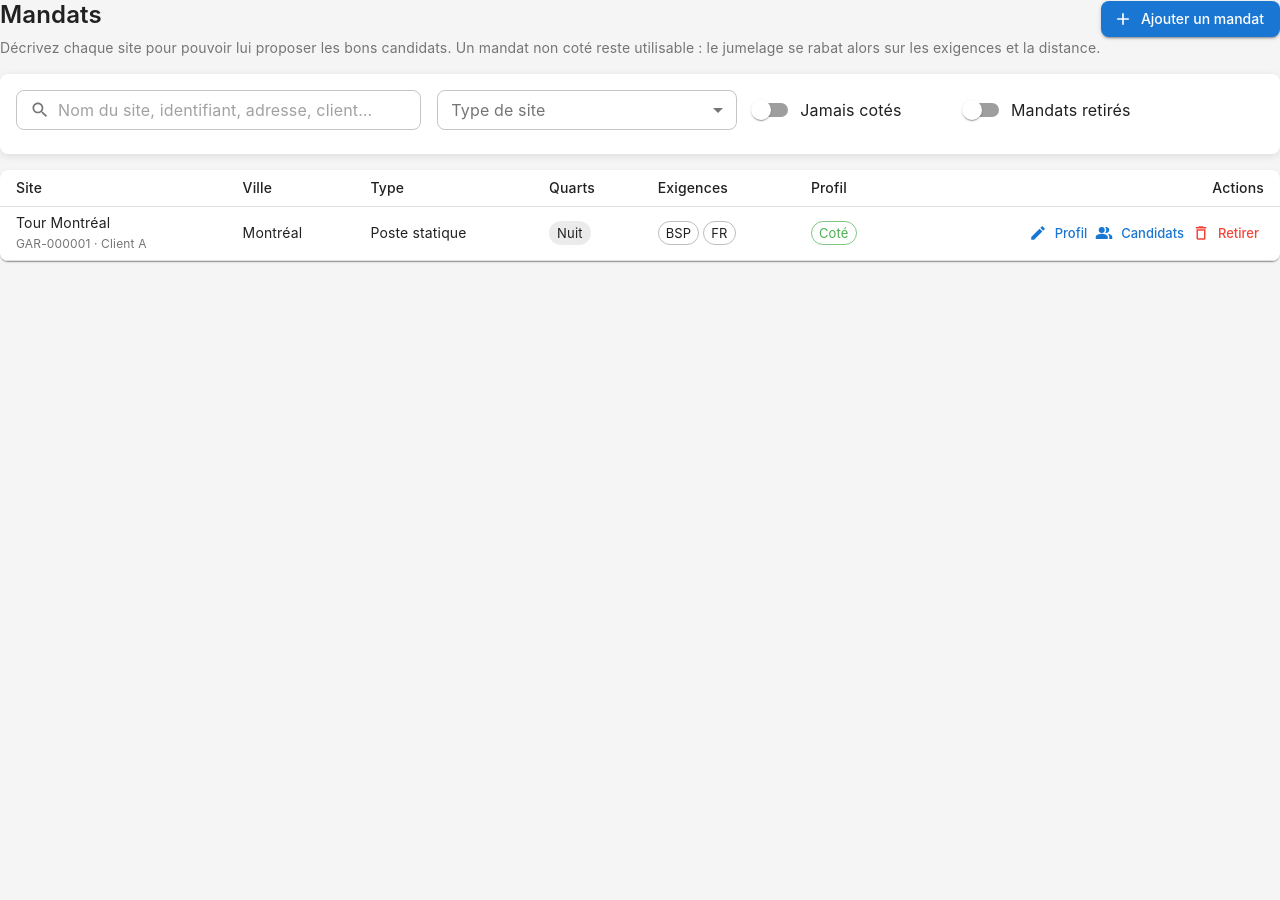
MandatesPage › ajout et retrait › ajoute un mandat puis ouvre directement son profil
The image size is (1280, 900).
Check: the text "Tour Montréal" is shown, box [16,214,110,231]
Step 1. Click the button "Ajouter un mandat" → (1190, 19), box [1101,1,1279,37]
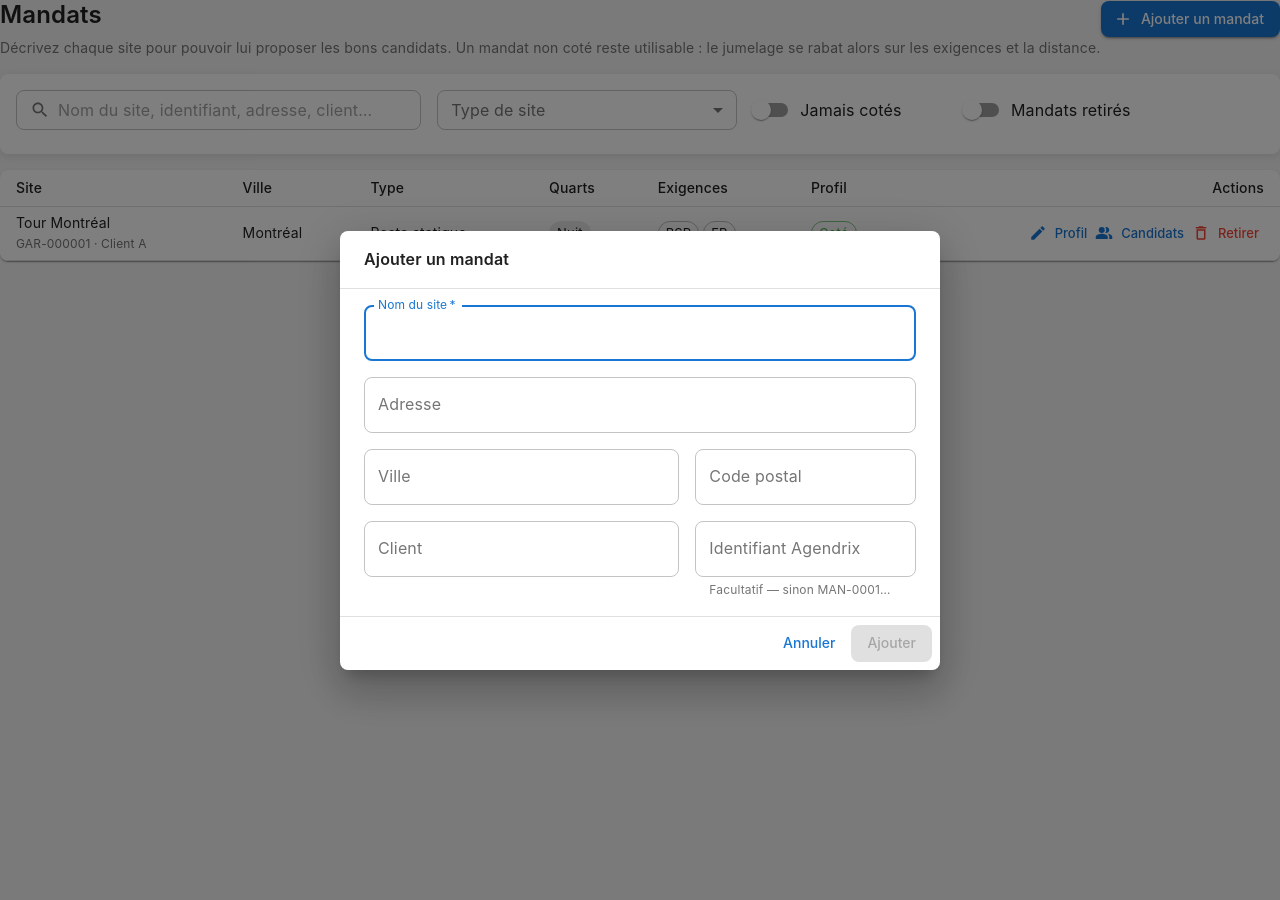
Check: the button "Ajouter" is disabled, box [851,625,932,662]
Step 2. Type "Nouveau site" into the field labelled "Nom du site *" → (640, 333), box [364,305,916,361]
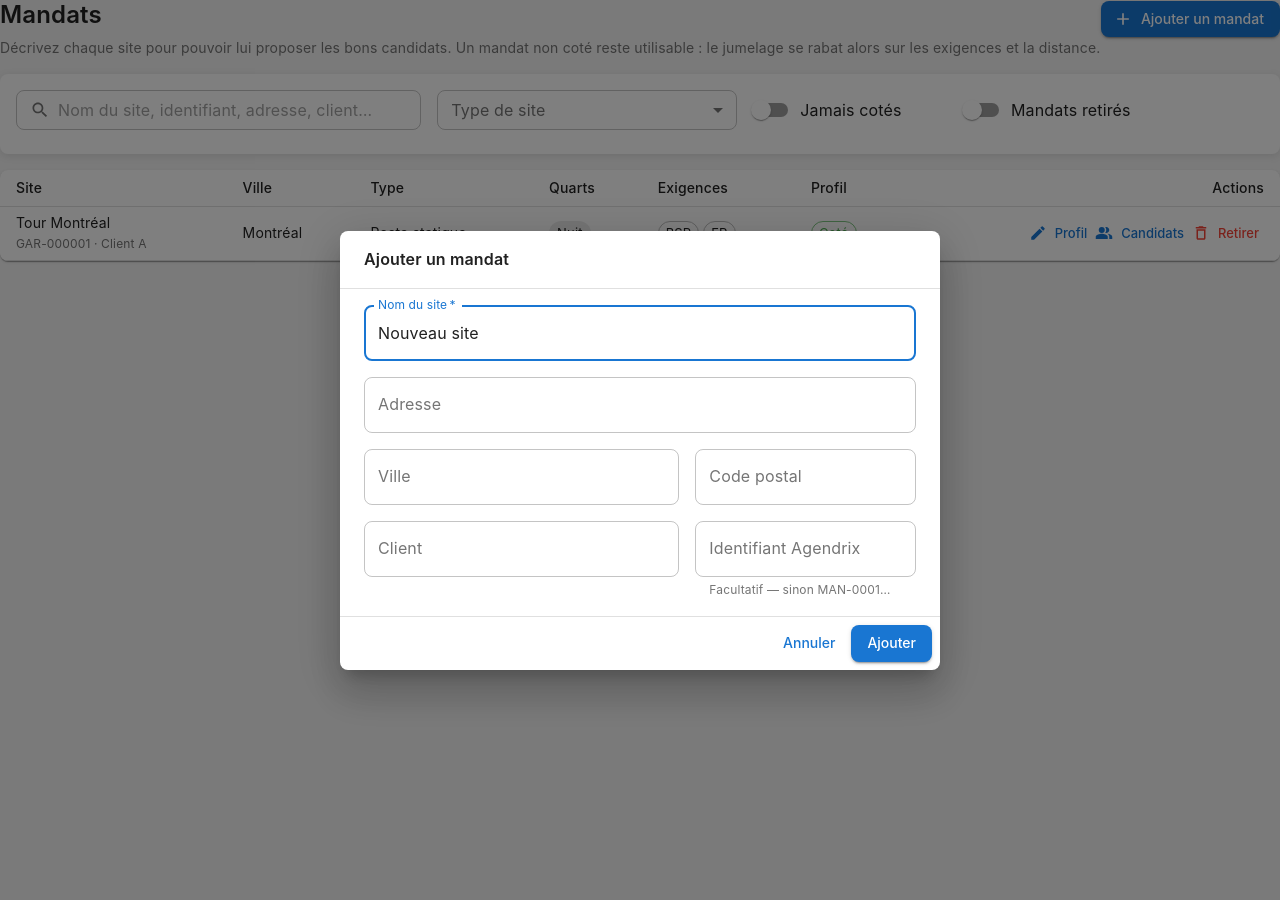
Step 3. Type "Laval" into the field labelled "Ville" → (522, 477), box [364,449,679,505]
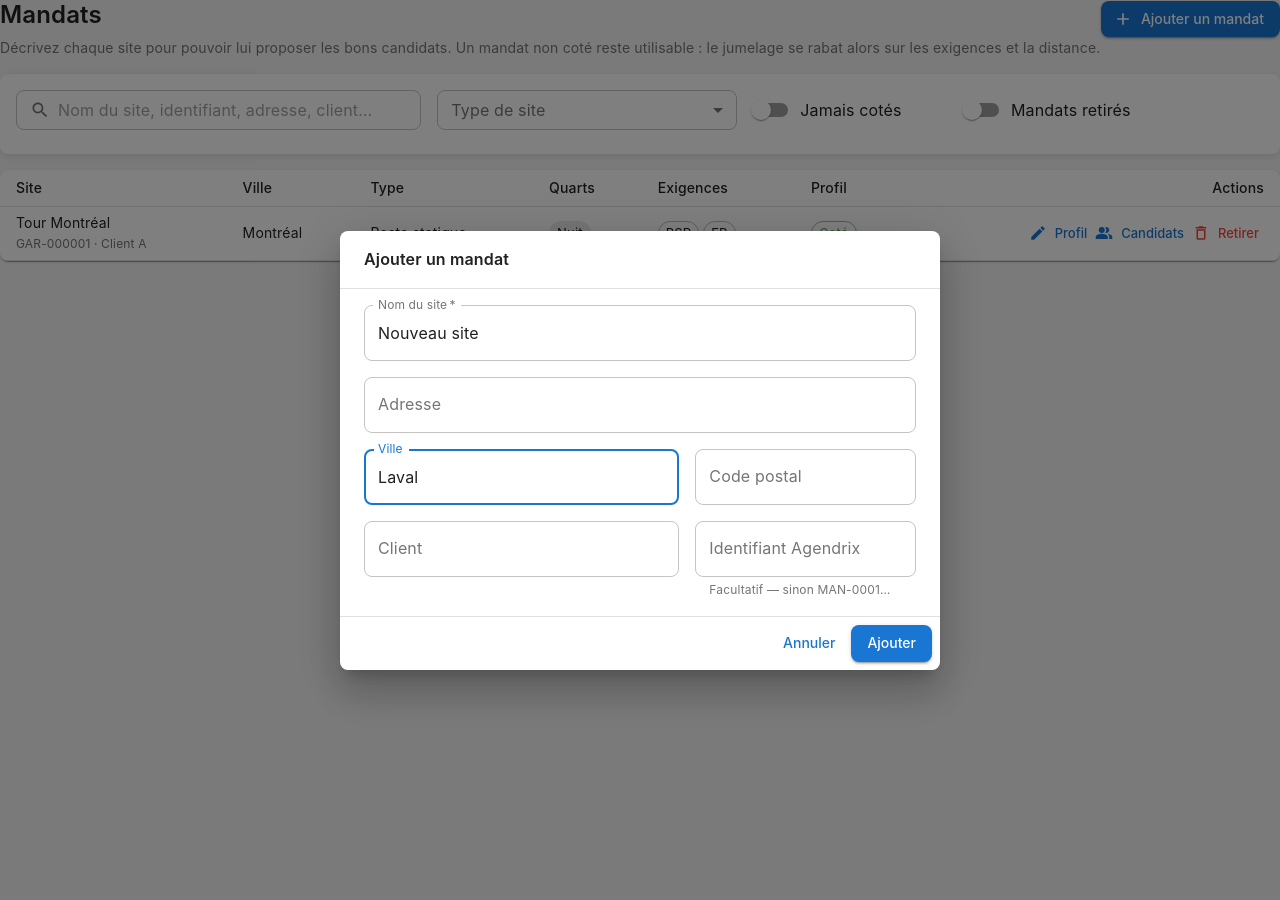
Step 4. Click the button "Ajouter" → (892, 643), box [851,625,932,662]
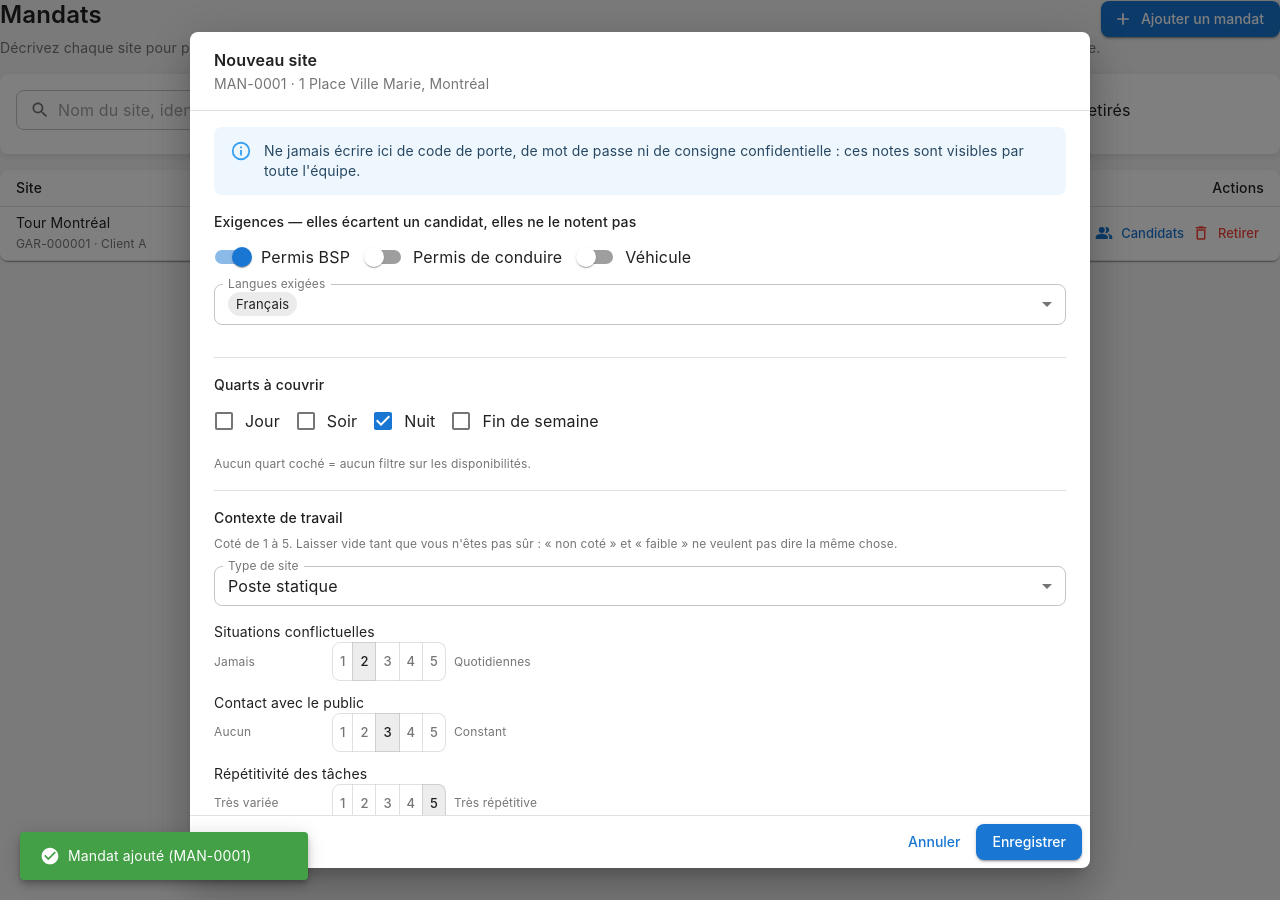
Check: the heading "Contexte de travail" is shown, box [214,509,343,526]
Check: the text "MAN-0001 · 1 Place Ville Marie, Montréal" is shown, box [214,75,489,92]
